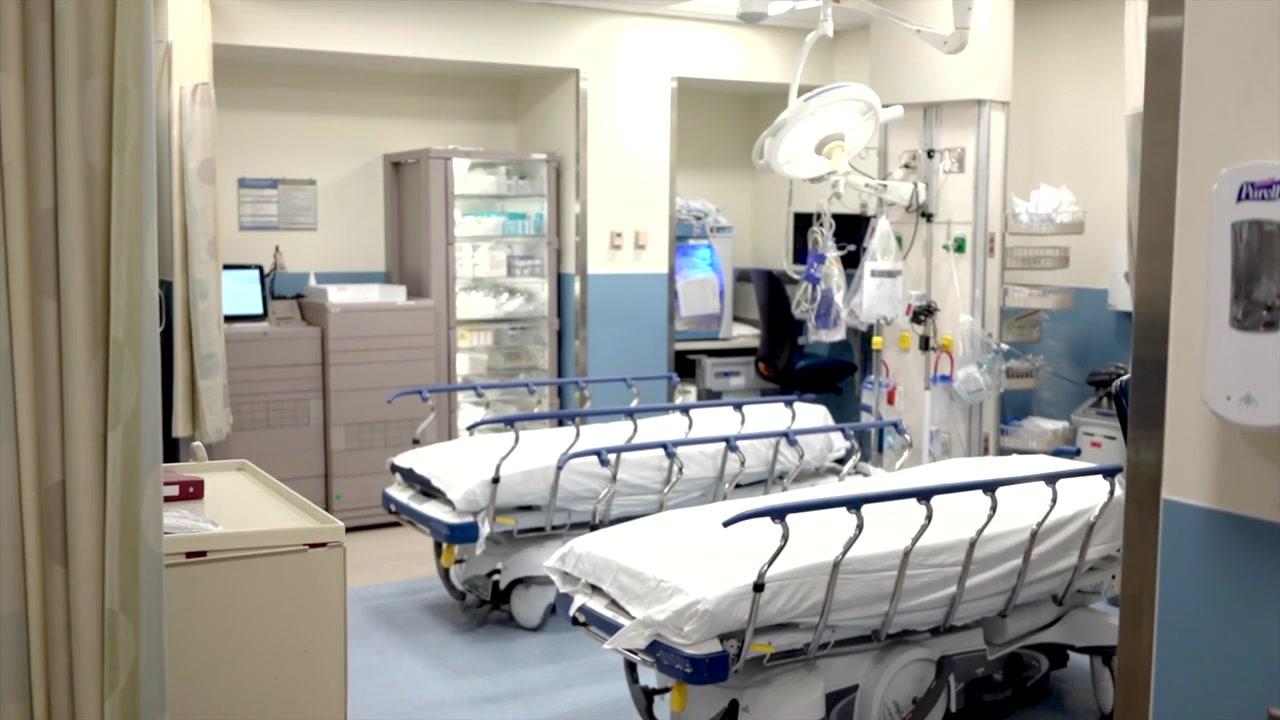bedrail: (713, 463, 1125, 667), (462, 388, 802, 538), (550, 420, 924, 524), (382, 370, 690, 445)
cabinet: (385, 144, 562, 430)
chair: (747, 268, 862, 395)
computer: (212, 262, 267, 324)
curtain: (1, 1, 174, 720), (166, 80, 237, 445)
dispenser: (1200, 155, 1280, 427)
drawer: (300, 291, 455, 526), (175, 319, 330, 506)
hospital_bed: (541, 419, 1122, 720), (380, 373, 857, 628)
iv_pole: (898, 145, 964, 424), (856, 143, 896, 413)
surgical_light: (749, 74, 904, 184)
